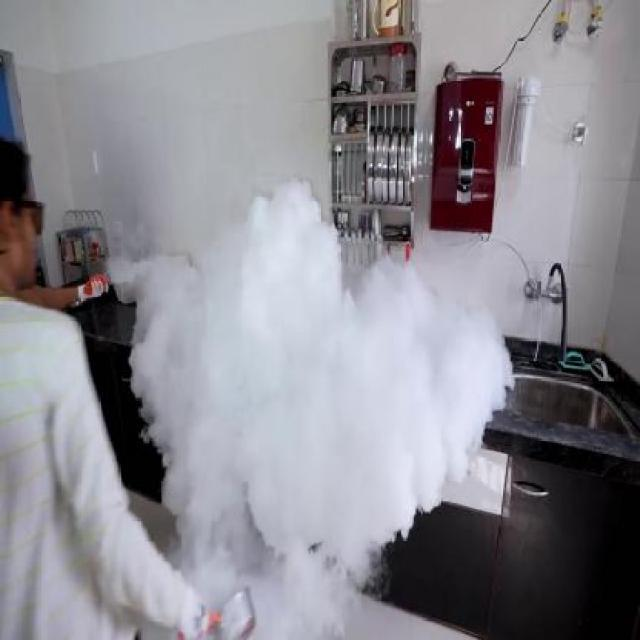smoke: (132, 213, 500, 612)
